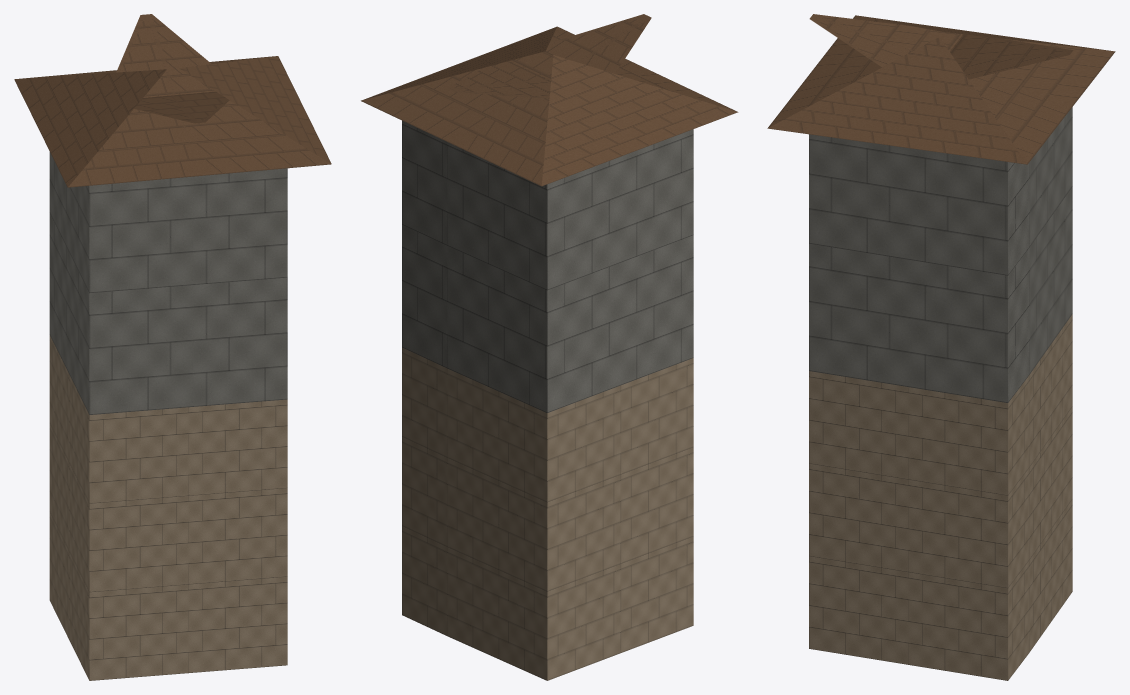
File: bld_c40_-47_458.gltf
3 renders of one model, left to right at view 1: azimuth 30°, elevation 25°; view 2: azimuth 150°, elevation 25°; view 3: azimuth 270°, elevation 25°, orthographic. The views are drawn at different scales.
Visible parts, largest first — view 1: bld_c40_-47_458; view 2: bld_c40_-47_458; view 3: bld_c40_-47_458.
Boxes of the visible parts, x1=… form: bld_c40_-47_458: x1=14, y1=14, x2=331, y2=680; bld_c40_-47_458: x1=361, y1=14, x2=738, y2=680; bld_c40_-47_458: x1=767, y1=14, x2=1115, y2=680.
Size of the model in its own units: 5.78 by 10.6 by 5.69.
Materials: 3 (3 with a texture image).
